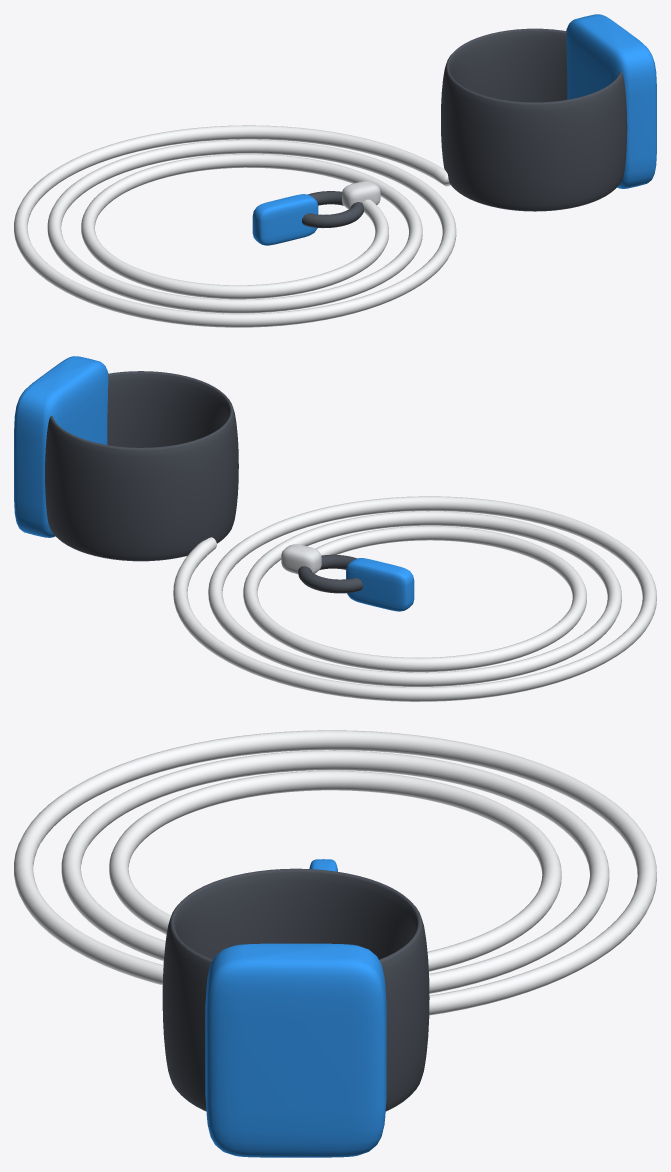
File: leash.glb
3 renders of one model, top to bottom at view 1: azimuth 30°, elevation 25°; view 2: azimuth 150°, elevation 25°; view 3: azimuth 270°, elevation 25°, orthographic. The views are drawn at different scales.
Parts seen in each view (by area): view 1: cordon, cuvette, coussin, velcro, rail_saver, emerillon; view 2: cordon, cuvette, coussin, velcro, rail_saver, emerillon; view 3: cordon, coussin, cuvette.
Part boxes in pixels (box(x1,y1,x2,y2)): cordon: box(14, 125, 456, 327); cuvette: box(441, 28, 627, 211); coussin: box(566, 14, 656, 188); velcro: box(252, 194, 318, 245); rail_saver: box(302, 191, 363, 228); emerillon: box(342, 181, 380, 209); cordon: box(173, 496, 656, 701); cuvette: box(45, 371, 238, 561); coussin: box(14, 356, 108, 537); velcro: box(346, 558, 414, 611); rail_saver: box(298, 554, 362, 593); emerillon: box(281, 544, 321, 574); cordon: box(14, 730, 656, 1015); coussin: box(205, 943, 386, 1157); cuvette: box(162, 868, 429, 1111).
Bounding box in the file's own units: 0.3414 × 0.08 × 0.2337.
